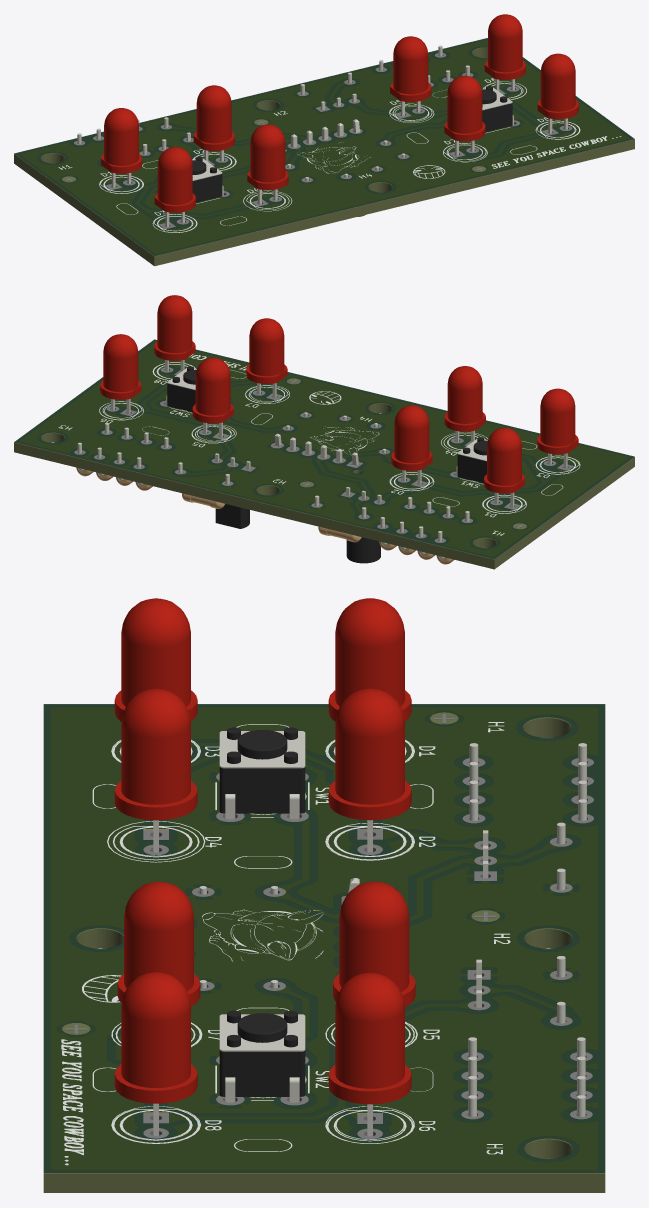
The model's file is play-cue.glb.
The picture shows the model from 3 angles, top to bottom: view 1: azimuth 30°, elevation 25°; view 2: azimuth 150°, elevation 25°; view 3: azimuth 270°, elevation 25°; orthographic projection. The views are drawn at different scales.
Parts seen in each view (by area): view 1: object 26, D8, D7, D3, D4, D5, D1, D2, D6, SW2, SW1; view 2: object 26, D3, D5, D7, D6, D2, D1, D4, D8, SW1, SW2, Q1 (+3 smaller); view 3: object 26, D8, D2, D4, D6, SW1, SW2, D5, D1, D3, D7.
Part boxes in pixels (x1,y1,x2,y2): object 26: [14, 38, 634, 266]; D8: [537, 53, 578, 133]; D7: [444, 75, 485, 155]; D3: [154, 147, 195, 226]; D4: [247, 124, 288, 204]; D5: [390, 36, 431, 116]; D1: [101, 108, 142, 187]; D2: [193, 85, 234, 161]; D6: [484, 14, 525, 91]; SW2: [481, 86, 513, 131]; SW1: [192, 156, 223, 202]; object 26: [14, 339, 634, 569]; D3: [537, 388, 578, 468]; D5: [192, 357, 233, 437]; D7: [246, 318, 287, 398]; D6: [100, 334, 141, 413]; D2: [391, 405, 432, 484]; D1: [484, 427, 525, 507]; D4: [444, 366, 485, 442]; D8: [154, 295, 195, 371]; SW1: [456, 437, 487, 483]; SW2: [166, 366, 196, 412]; Q1: [346, 487, 381, 563]; object 26: [43, 704, 605, 1192]; D8: [114, 972, 197, 1135]; D2: [328, 688, 411, 852]; D4: [114, 688, 197, 852]; D6: [328, 972, 411, 1136]; SW1: [219, 727, 305, 819]; SW2: [219, 1010, 305, 1102]; D5: [333, 881, 415, 1006]; D1: [328, 598, 411, 721]; D3: [114, 598, 197, 721]; D7: [117, 881, 200, 1006].
Size of the model in its own units: 0.0778 by 0.0206 by 0.0394.
